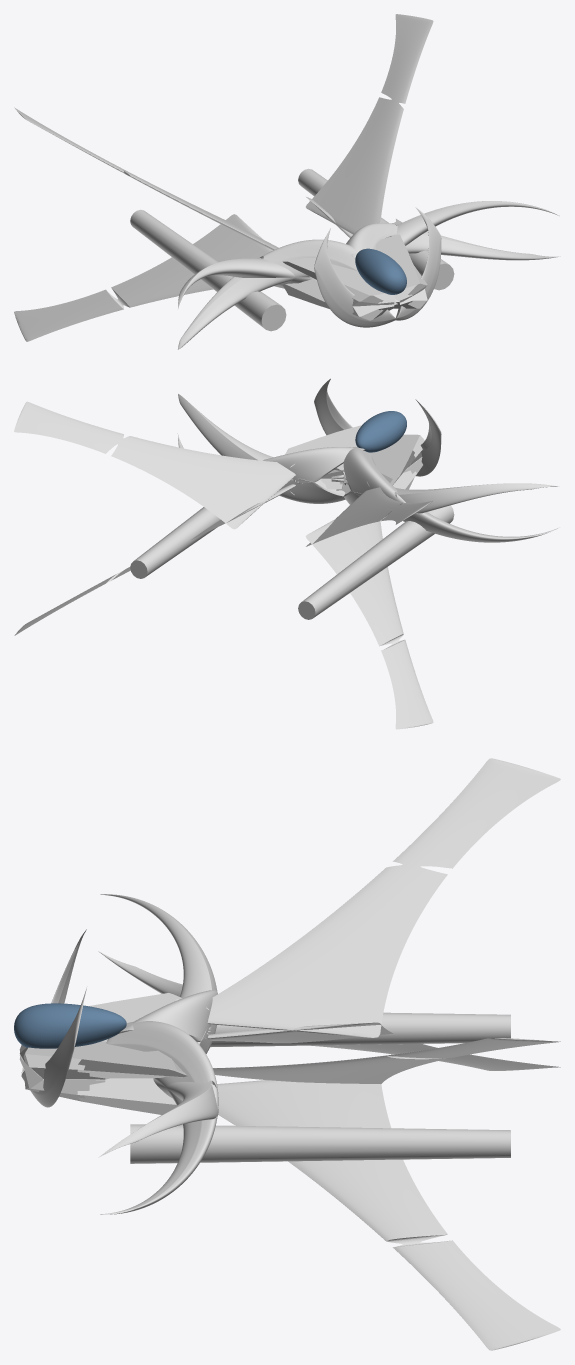
Rendered from Enemy002.glb.
The picture shows the model from 3 angles, top to bottom: view 1: azimuth 30°, elevation 25°; view 2: azimuth 150°, elevation 25°; view 3: azimuth 270°, elevation 25°; orthographic projection. The views are drawn at different scales.
Parts seen in each view (by area): view 1: assembly_gltf_export_temp; view 2: assembly_gltf_export_temp; view 3: assembly_gltf_export_temp.
Part boxes in pixels (x1,y1,x2,y2): assembly_gltf_export_temp: (14, 14, 560, 349); assembly_gltf_export_temp: (14, 378, 559, 729); assembly_gltf_export_temp: (14, 758, 560, 1350).
Size of the model in its own units: 8.24 by 4.29 by 6.81.
